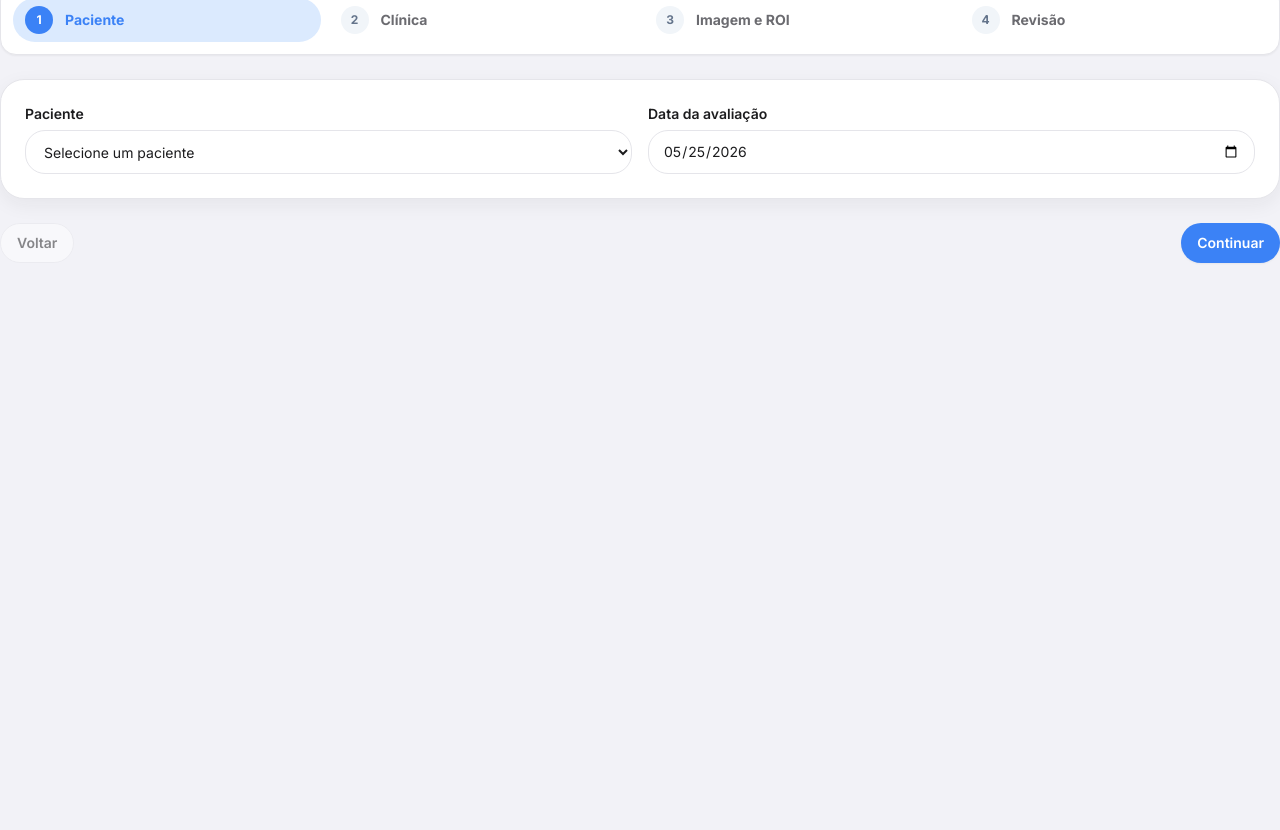
EvaluationForm › renderiza fluxo clinico TIMERS estruturado
Select "Tania Silva" in the dropdown labelled "Paciente". click: x=328, y=152
box: [25, 130, 632, 174]
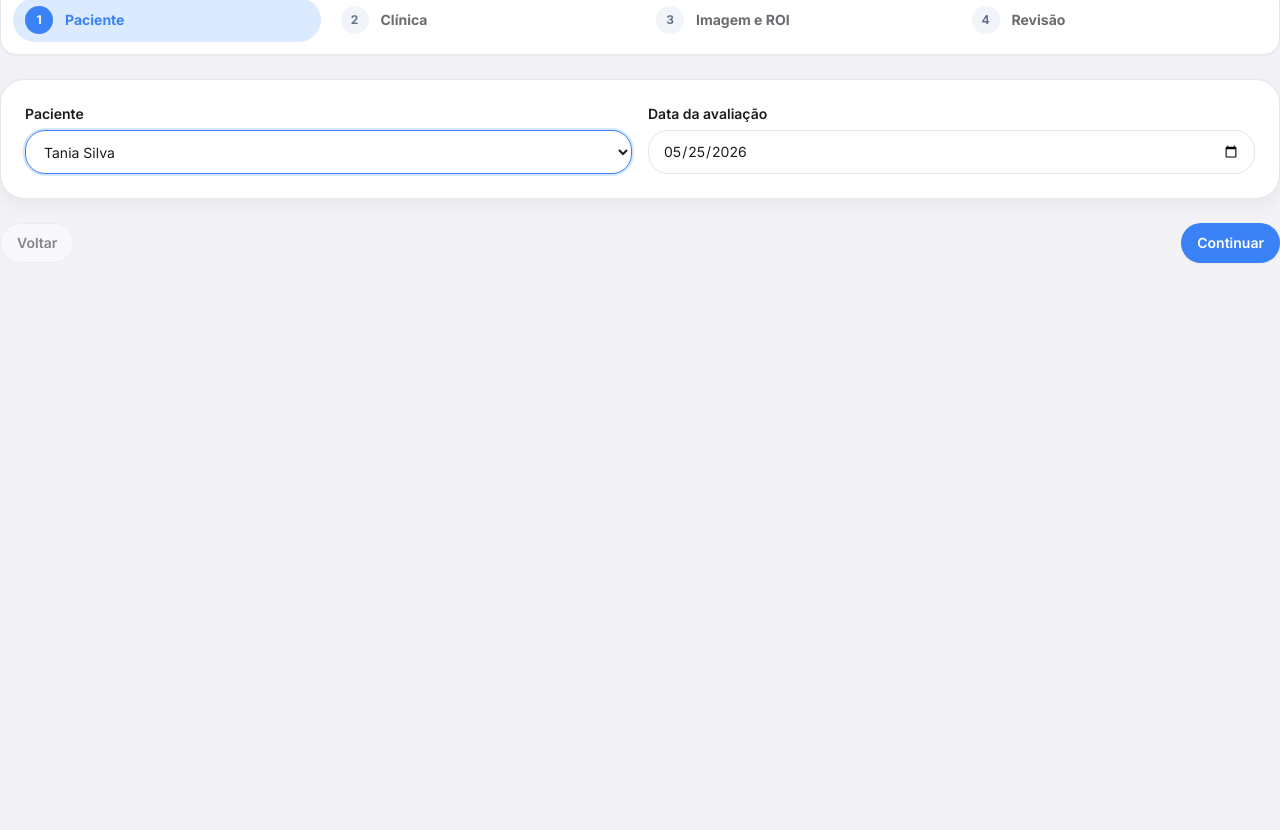
Click the button "Continuar". click: x=1231, y=243
box: [1181, 223, 1279, 263]
(page scrolled)
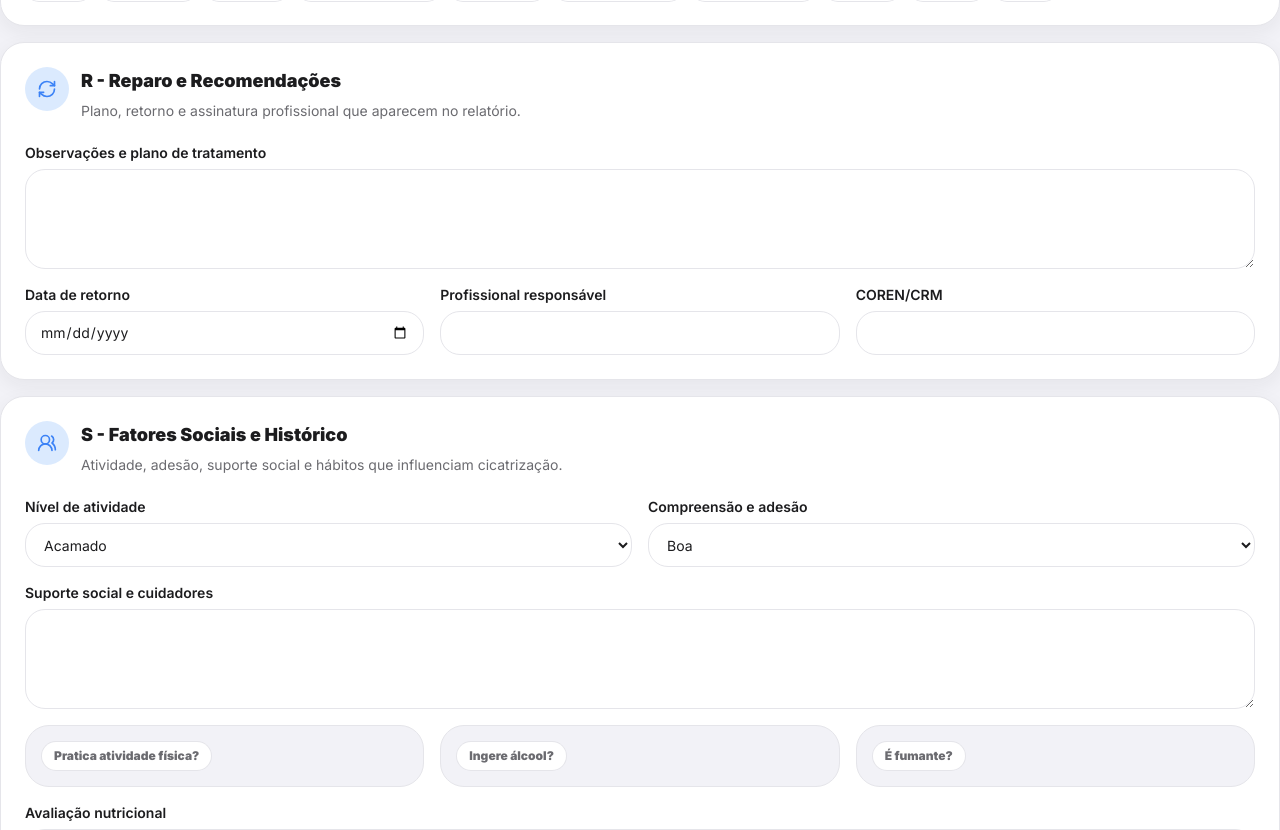
Check: the heading "R - Reparo e Recomendações" is shown, box [81, 70, 341, 91]
Check: the heading "S - Fatores Sociais e Histórico" is shown, box [81, 424, 347, 445]
